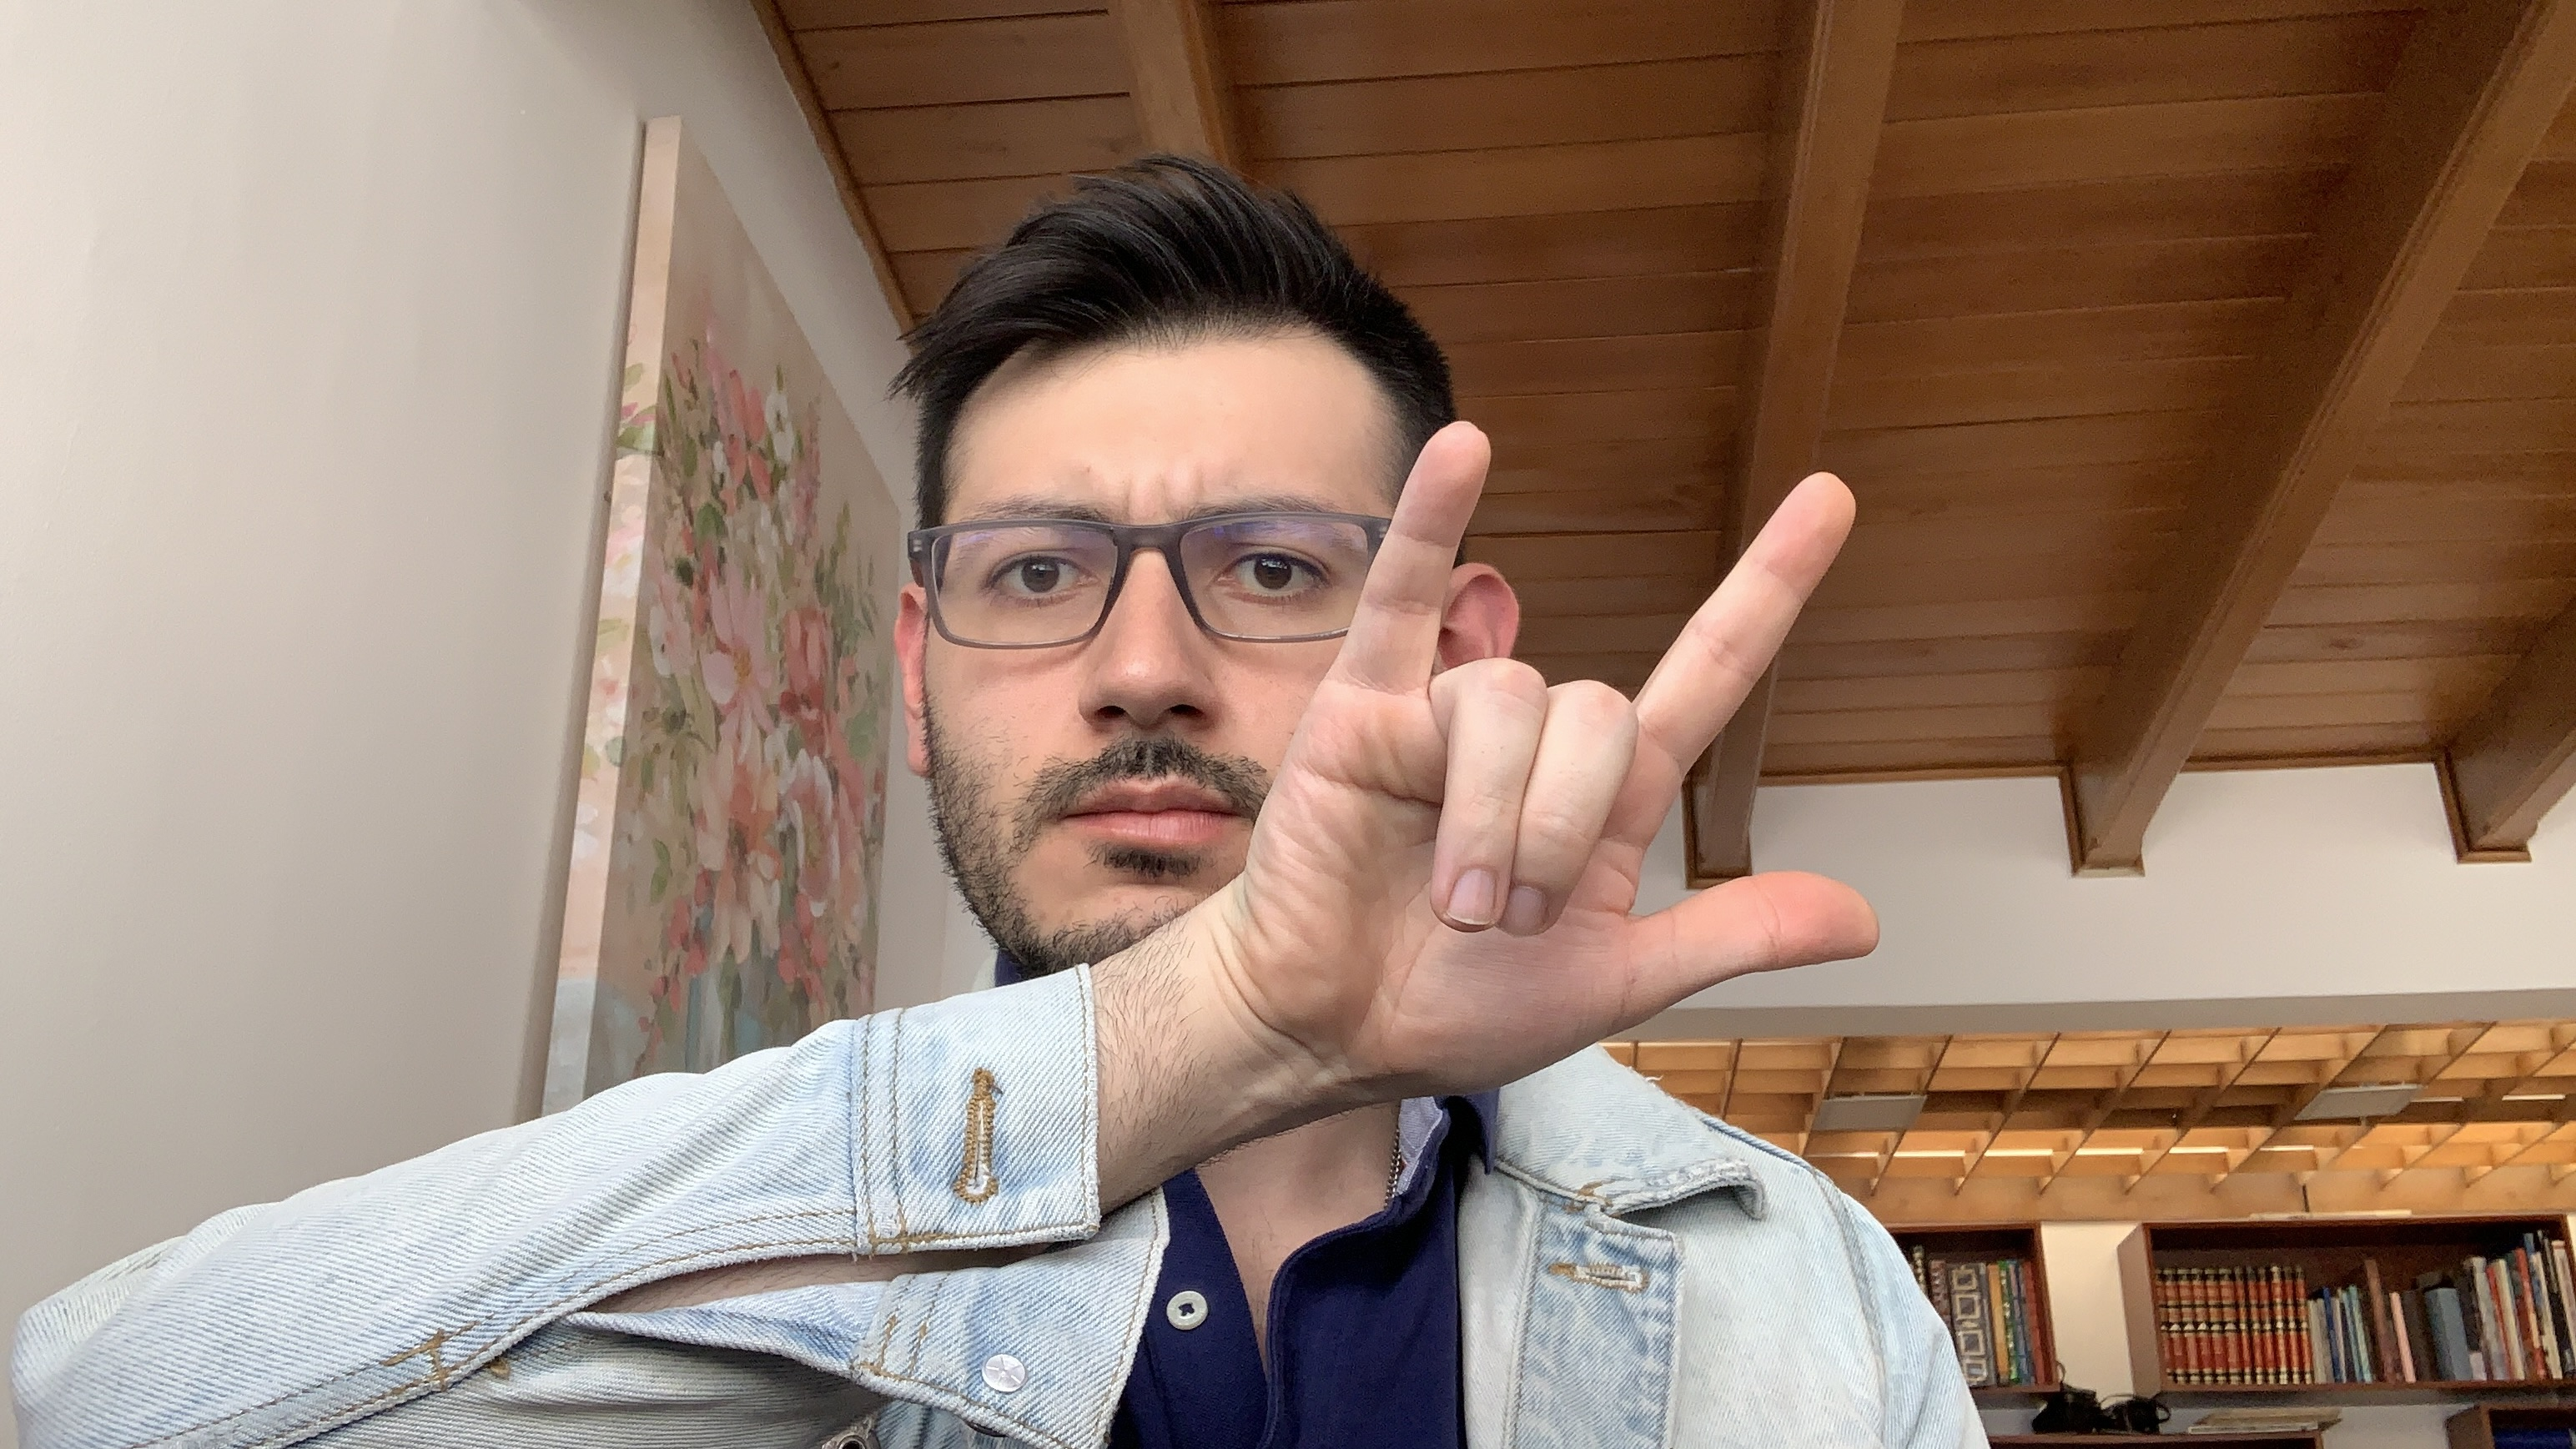I Love You: (1230, 414, 1900, 1111)
